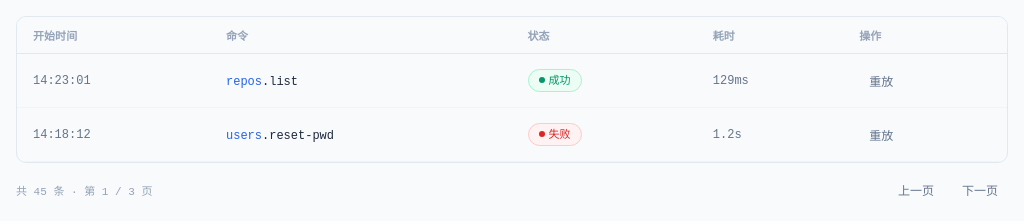
Test: HistoryPanel › 分页：每页 20，下一页带 offset 20 重新请求，首页禁用上一页
The image size is (1024, 221).
Expected: the text with test id "history-count" reads "共 45 条 · 第 1 / 3 页", [16,182,152,198]
Expected: the button with test id "history-prev" is disabled, [888,175,944,204]
Step 1. Click the button with test id "history-next" → [980, 190], box [952,175,1008,204]
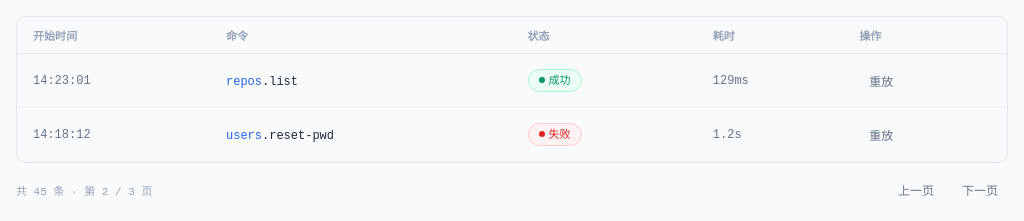
Expected: the button with test id "history-prev" is enabled, [888,175,944,204]
Now the text with test id "history-count" shows "第 2 / 3 页", box [16,182,152,198]
